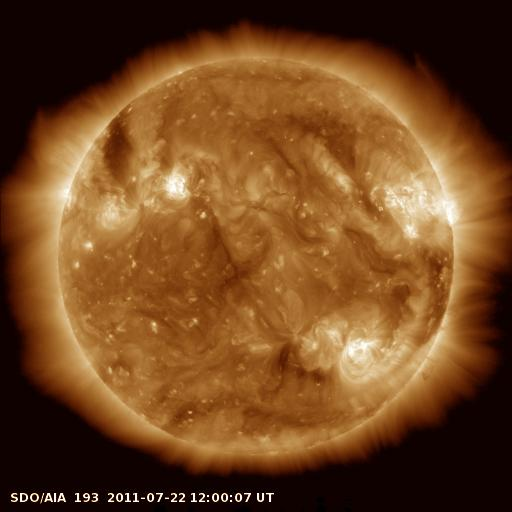coronal_hole: (99, 113, 140, 182)
